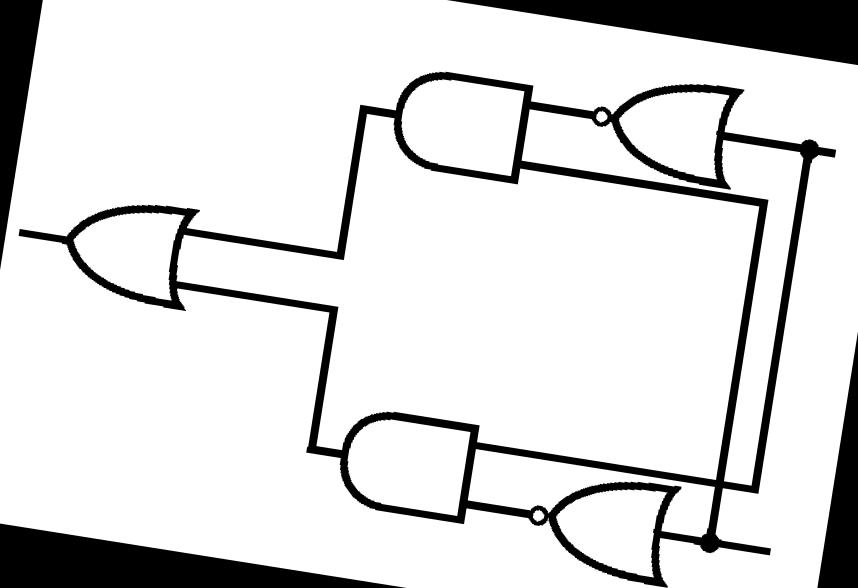and: (309, 385, 499, 551), (373, 53, 551, 202)
nor: (566, 44, 762, 196), (505, 457, 697, 588)
or: (45, 177, 211, 328)
